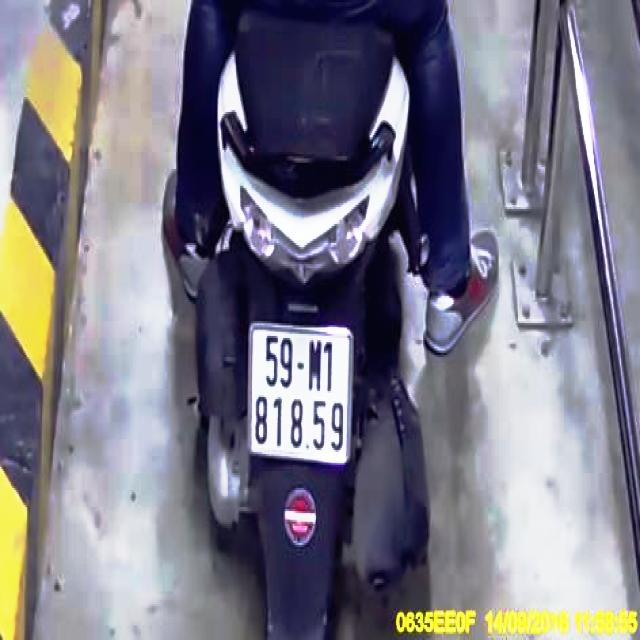license_plate: (251, 324, 351, 465)
